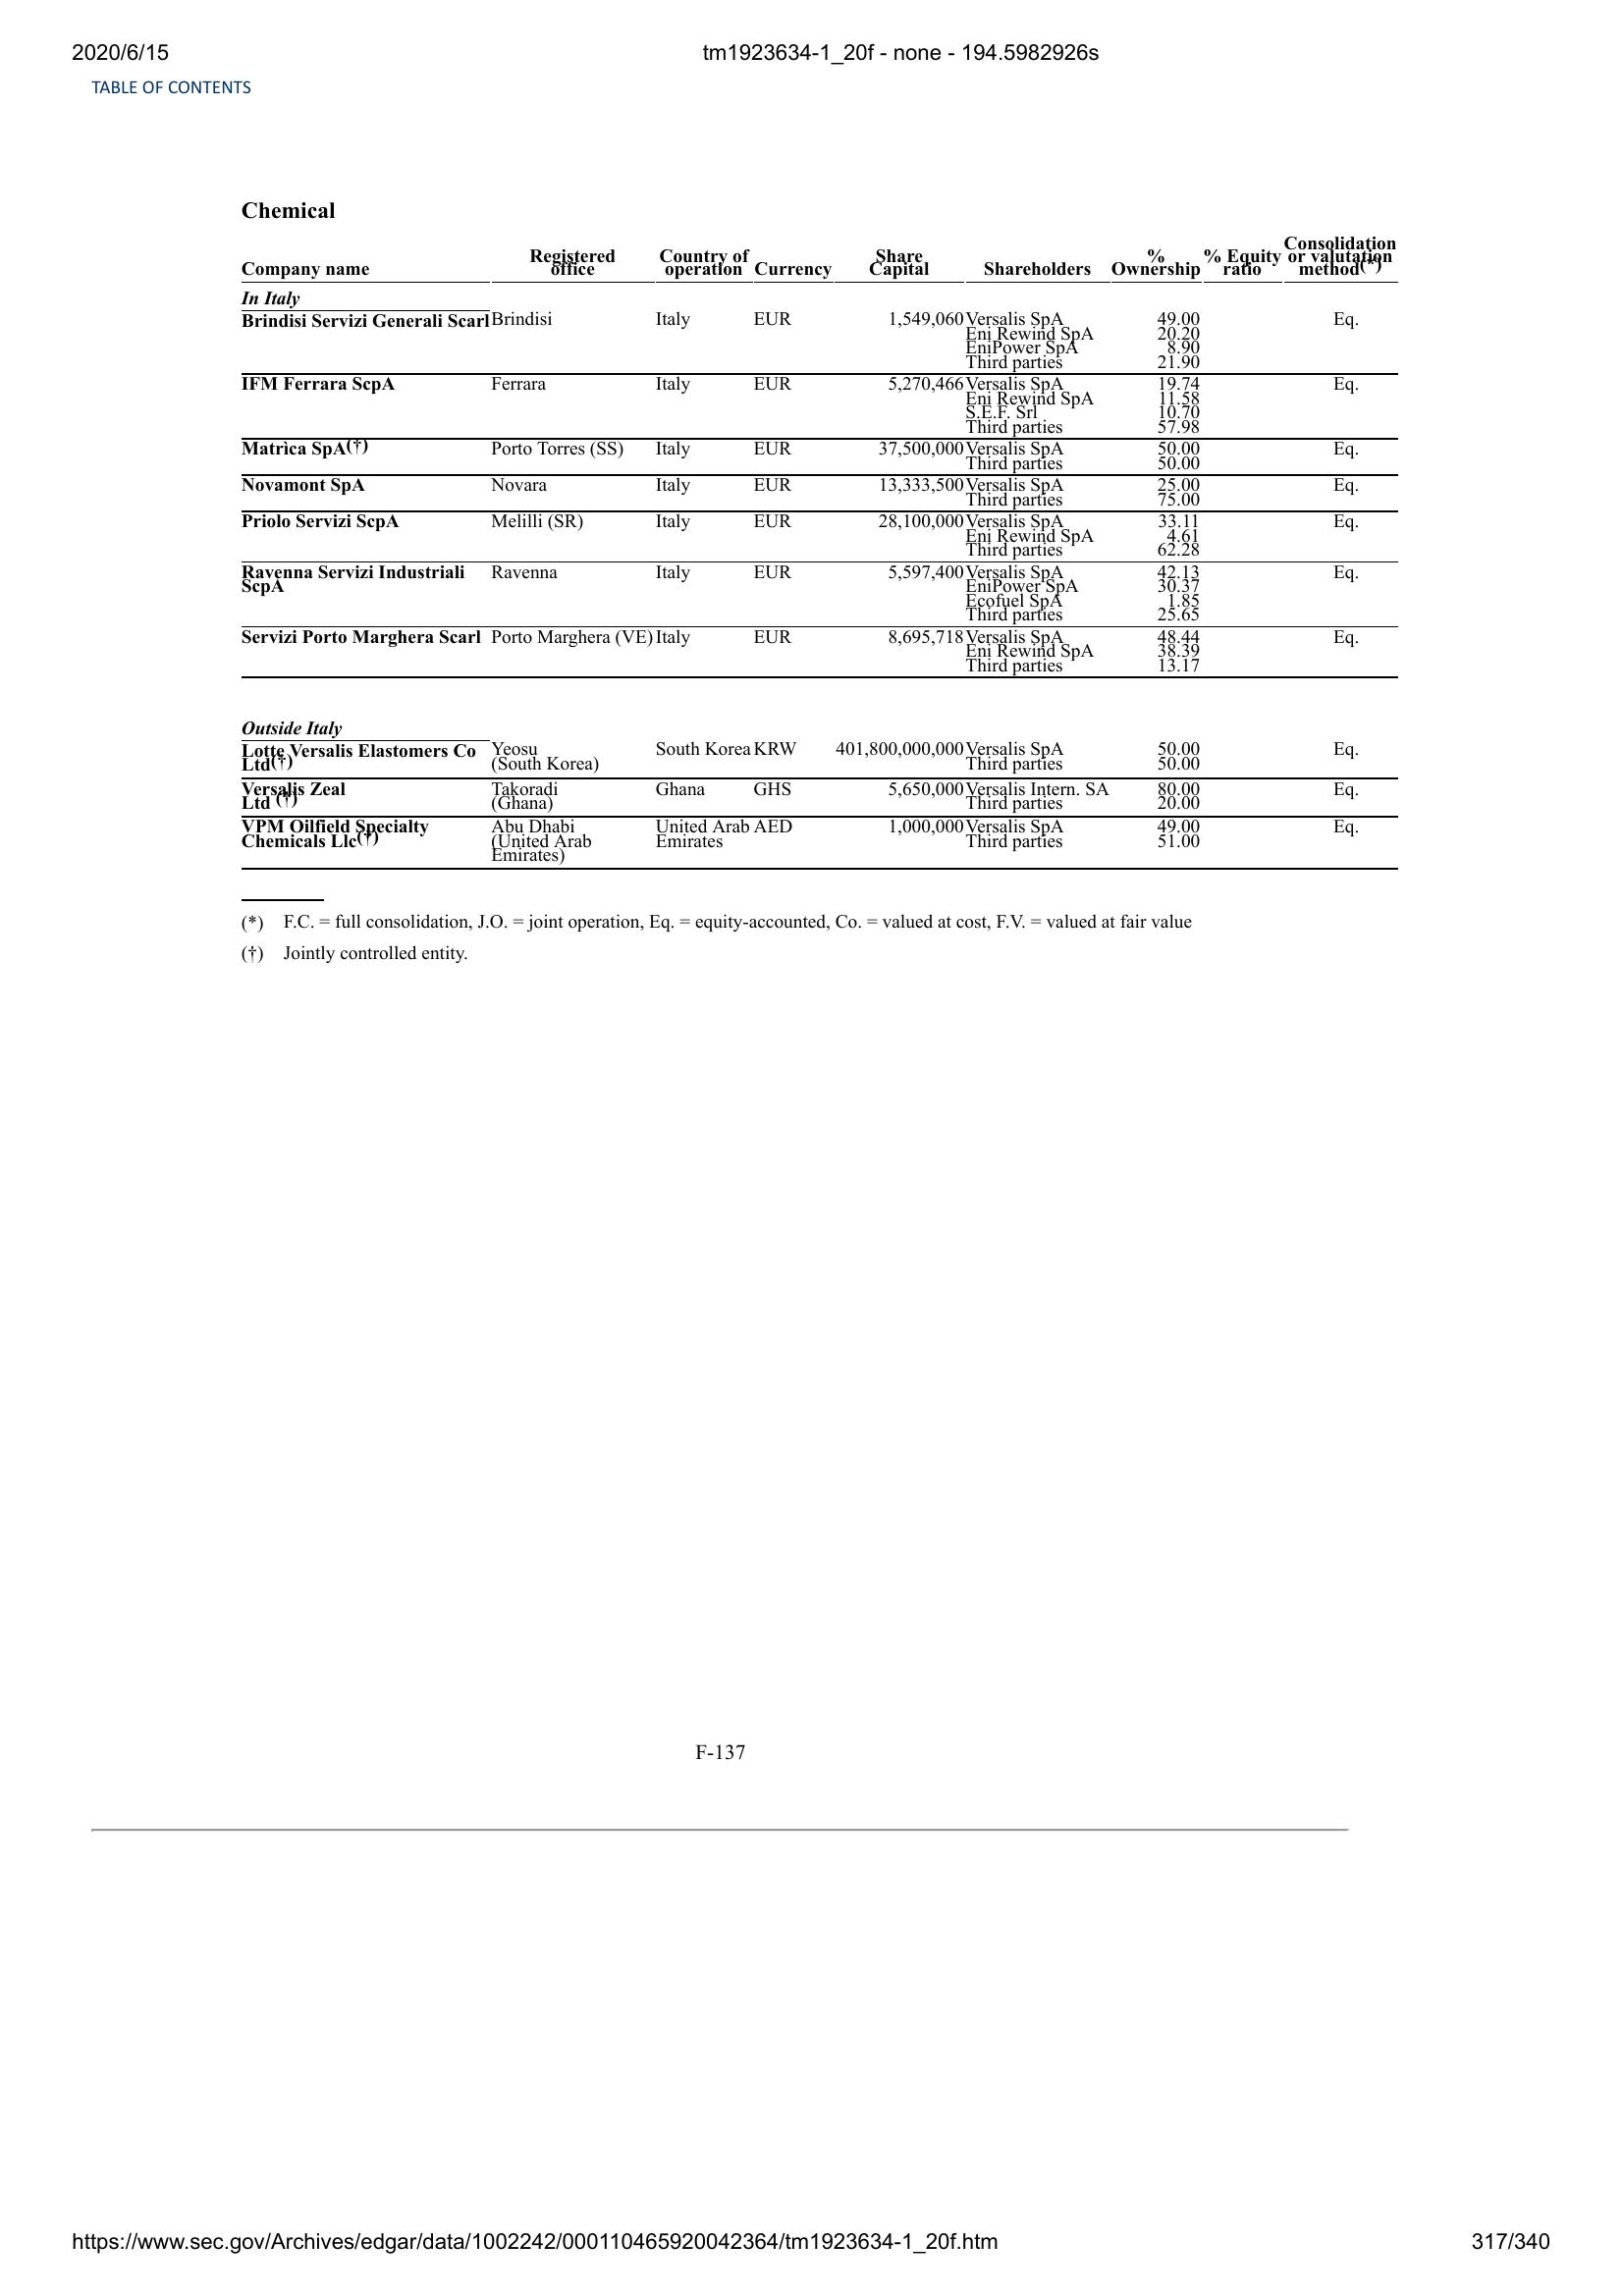table: (232, 230, 1402, 878)
